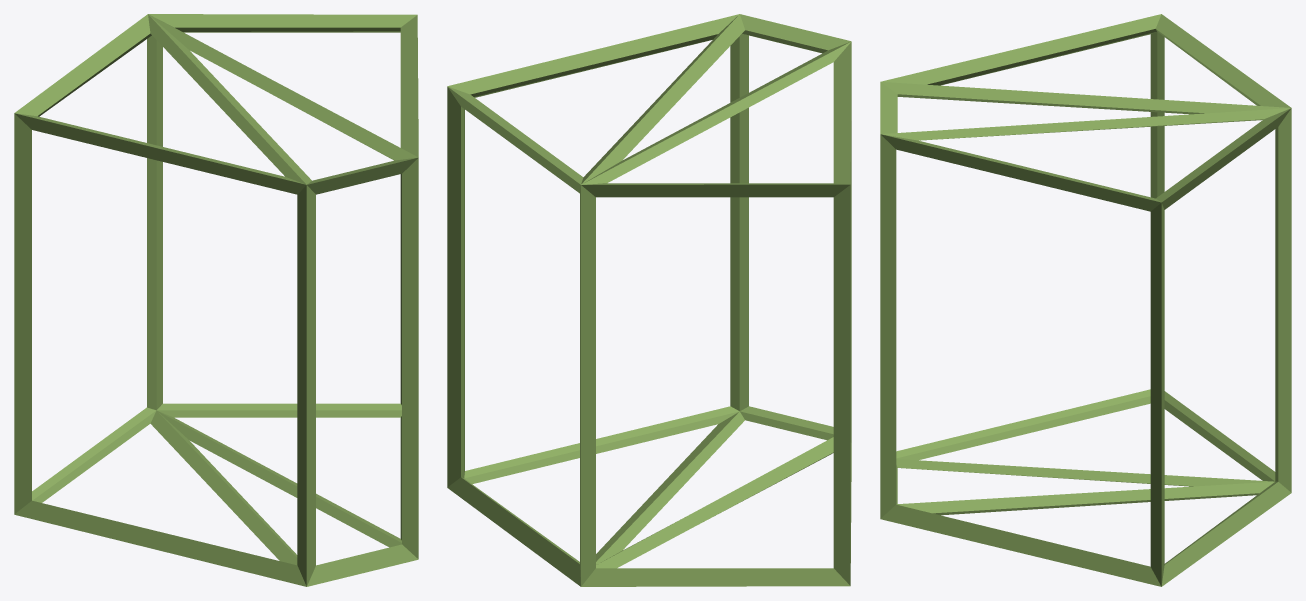
File: hex_bridge_edge_builder.fbx
The picture shows the model from 3 angles, left to right: view 1: azimuth 30°, elevation 25°; view 2: azimuth 150°, elevation 25°; view 3: azimuth 270°, elevation 25°; orthographic projection. The views are drawn at different scales.
Parts seen in each view (by area): view 1: Builder; view 2: Builder; view 3: Builder.
Part boxes in pixels (bbox=[...]): Builder: bbox=[14, 14, 418, 586]; Builder: bbox=[447, 14, 851, 586]; Builder: bbox=[880, 14, 1291, 586].
Size of the model in its own units: 0.4329 by 0.3992 by 0.4122.
